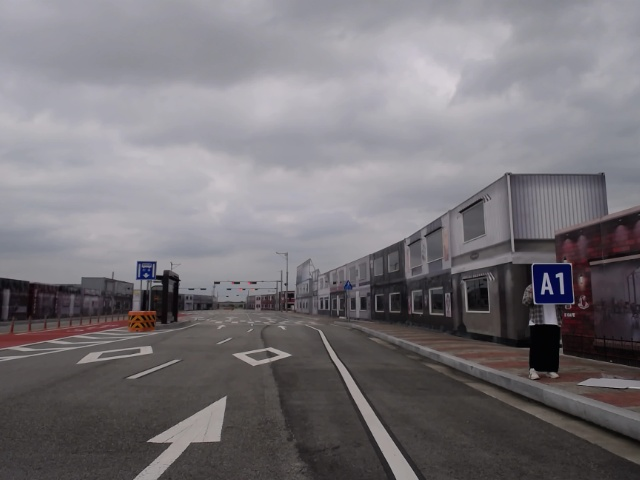delivery_a1: (532, 263, 574, 305)
